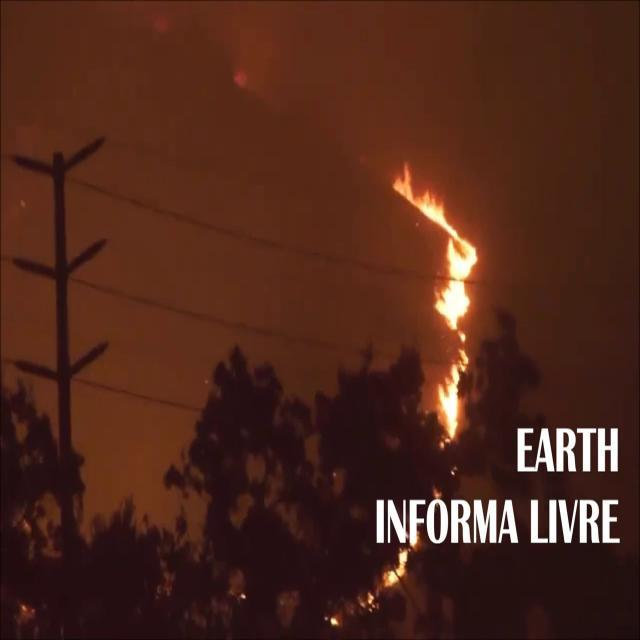Fire: (397, 162, 479, 446), (431, 354, 463, 444), (381, 548, 412, 590), (391, 150, 412, 204), (231, 46, 249, 89), (358, 594, 378, 614), (326, 612, 342, 634)
Smoke: (4, 7, 386, 510)
